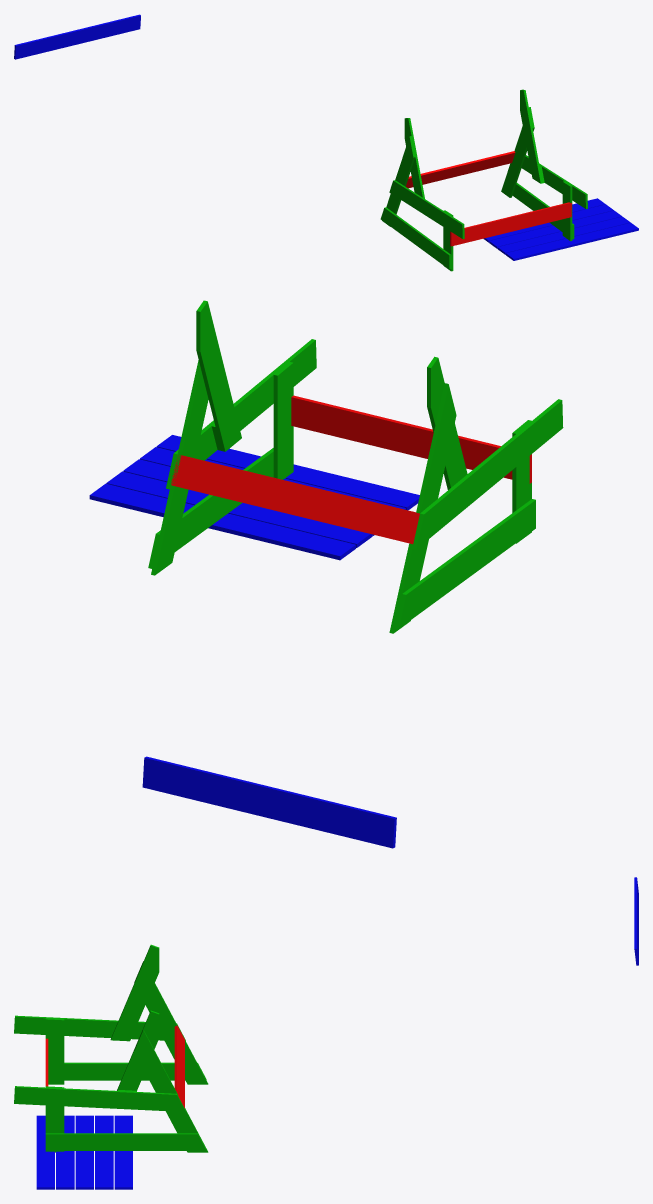
File: result.glb
The picture shows the model from 3 angles, top to bottom: view 1: azimuth 30°, elevation 25°; view 2: azimuth 150°, elevation 25°; view 3: azimuth 270°, elevation 25°; orthographic projection. The views are drawn at different scales.
Visible parts, largest first — view 1: 0d13a5ae-d50d-4ea9-87d7-09970bddd6df__Box_8, 123417bc-2188-4664-b582-1d46b9dd28af__Plane_1, 018d4346-797b-46e2-b12b-de85845bd1b9__Box_5, 2f8ae7b4-c949-4d41-ab45-ef4ad08ab485__undefined, acab5200-f90d-4877-931a-7268f45eeae3__Plane_2, 7b2a0d8e-2da6-41ab-901d-dffa2fc1f2bd__undefined, 456be0e6-1ec6-426b-bcb1-8b5496f3bd10__Box_1, 8c7bc5d5-9016-4949-8df1-acc973e7078a__Box_2, 2d28d67d-af51-41f4-8ab1-ae68b9cacb30__undefined, 3a88c2df-b12e-4099-95ba-4b5915ec565e__undefined, f5cef1a5-9c6f-48f8-bb16-b77ffadba27a__undefined, 4f8a1af1-d3ae-4978-b64c-24c8ee3efad8__undefined (+4 smaller); view 2: 0d13a5ae-d50d-4ea9-87d7-09970bddd6df__Box_8, acab5200-f90d-4877-931a-7268f45eeae3__Plane_2, 123417bc-2188-4664-b582-1d46b9dd28af__Plane_1, 2f8ae7b4-c949-4d41-ab45-ef4ad08ab485__undefined, 7b2a0d8e-2da6-41ab-901d-dffa2fc1f2bd__undefined, 534b511f-c539-45d4-9eef-ecc4e9404038__Box_4, 4f8a1af1-d3ae-4978-b64c-24c8ee3efad8__undefined (×2), f5cef1a5-9c6f-48f8-bb16-b77ffadba27a__undefined, 2d28d67d-af51-41f4-8ab1-ae68b9cacb30__undefined, b48b26be-b8dc-4263-8b93-9964db70dd30__Box_3, 018d4346-797b-46e2-b12b-de85845bd1b9__Box_5, 3a88c2df-b12e-4099-95ba-4b5915ec565e__undefined (+5 smaller); view 3: 3a88c2df-b12e-4099-95ba-4b5915ec565e__undefined, 5ad815f2-56a3-4893-8526-955a63292a1f__Plane, 4f8a1af1-d3ae-4978-b64c-24c8ee3efad8__undefined (×2), 4a3b12eb-7378-46ae-95ac-1df9b7837016__undefined, 2f8ae7b4-c949-4d41-ab45-ef4ad08ab485__undefined, f5cef1a5-9c6f-48f8-bb16-b77ffadba27a__undefined, 7b2a0d8e-2da6-41ab-901d-dffa2fc1f2bd__undefined, 851e575d-fc71-4cfc-b552-571388f2c1bf__undefined, b48b26be-b8dc-4263-8b93-9964db70dd30__Box_3, 8c7bc5d5-9016-4949-8df1-acc973e7078a__Box_2, 534b511f-c539-45d4-9eef-ecc4e9404038__Box_4, 018d4346-797b-46e2-b12b-de85845bd1b9__Box_5 (+4 smaller).
Part boxes in pixels (x1,y1,x2,y2): 0d13a5ae-d50d-4ea9-87d7-09970bddd6df__Box_8: (14, 14, 140, 59); 123417bc-2188-4664-b582-1d46b9dd28af__Plane_1: (450, 202, 571, 246); 018d4346-797b-46e2-b12b-de85845bd1b9__Box_5: (506, 223, 638, 260); 2f8ae7b4-c949-4d41-ab45-ef4ad08ab485__undefined: (389, 180, 464, 238); acab5200-f90d-4877-931a-7268f45eeae3__Plane_2: (405, 151, 515, 188); 7b2a0d8e-2da6-41ab-901d-dffa2fc1f2bd__undefined: (380, 207, 451, 269); 456be0e6-1ec6-426b-bcb1-8b5496f3bd10__Box_1: (497, 216, 630, 254); 8c7bc5d5-9016-4949-8df1-acc973e7078a__Box_2: (489, 210, 621, 248); 2d28d67d-af51-41f4-8ab1-ae68b9cacb30__undefined: (520, 89, 542, 183); 3a88c2df-b12e-4099-95ba-4b5915ec565e__undefined: (521, 155, 587, 208); f5cef1a5-9c6f-48f8-bb16-b77ffadba27a__undefined: (382, 136, 415, 226); 4f8a1af1-d3ae-4978-b64c-24c8ee3efad8__undefined: (501, 107, 534, 197); 0d13a5ae-d50d-4ea9-87d7-09970bddd6df__Box_8: (142, 756, 396, 848); acab5200-f90d-4877-931a-7268f45eeae3__Plane_2: (171, 455, 419, 544); 123417bc-2188-4664-b582-1d46b9dd28af__Plane_1: (291, 395, 531, 483); 2f8ae7b4-c949-4d41-ab45-ef4ad08ab485__undefined: (412, 399, 563, 549); 7b2a0d8e-2da6-41ab-901d-dffa2fc1f2bd__undefined: (394, 499, 535, 628); 534b511f-c539-45d4-9eef-ecc4e9404038__Box_4: (89, 483, 355, 560); 4f8a1af1-d3ae-4978-b64c-24c8ee3efad8__undefined (×2): (151, 360, 208, 575); f5cef1a5-9c6f-48f8-bb16-b77ffadba27a__undefined: (389, 383, 456, 633); 2d28d67d-af51-41f4-8ab1-ae68b9cacb30__undefined: (196, 300, 241, 451); b48b26be-b8dc-4263-8b93-9964db70dd30__Box_3: (106, 471, 372, 547); 018d4346-797b-46e2-b12b-de85845bd1b9__Box_5: (156, 435, 419, 510); 3a88c2df-b12e-4099-95ba-4b5915ec565e__undefined: (166, 339, 316, 489); 3a88c2df-b12e-4099-95ba-4b5915ec565e__undefined: (14, 1086, 185, 1111); 5ad815f2-56a3-4893-8526-955a63292a1f__Plane: (45, 1133, 206, 1150); 4f8a1af1-d3ae-4978-b64c-24c8ee3efad8__undefined (×2): (134, 1029, 208, 1152); 4a3b12eb-7378-46ae-95ac-1df9b7837016__undefined: (110, 944, 159, 1041); 2f8ae7b4-c949-4d41-ab45-ef4ad08ab485__undefined: (14, 1015, 185, 1040); f5cef1a5-9c6f-48f8-bb16-b77ffadba27a__undefined: (134, 961, 208, 1084); 7b2a0d8e-2da6-41ab-901d-dffa2fc1f2bd__undefined: (64, 1062, 206, 1080); 851e575d-fc71-4cfc-b552-571388f2c1bf__undefined: (45, 1018, 64, 1084); b48b26be-b8dc-4263-8b93-9964db70dd30__Box_3: (95, 1115, 113, 1189); 8c7bc5d5-9016-4949-8df1-acc973e7078a__Box_2: (75, 1115, 93, 1189); 534b511f-c539-45d4-9eef-ecc4e9404038__Box_4: (114, 1115, 132, 1189); 018d4346-797b-46e2-b12b-de85845bd1b9__Box_5: (36, 1115, 54, 1189).
Size of the model in its own units: 2417 by 758 by 3040.
